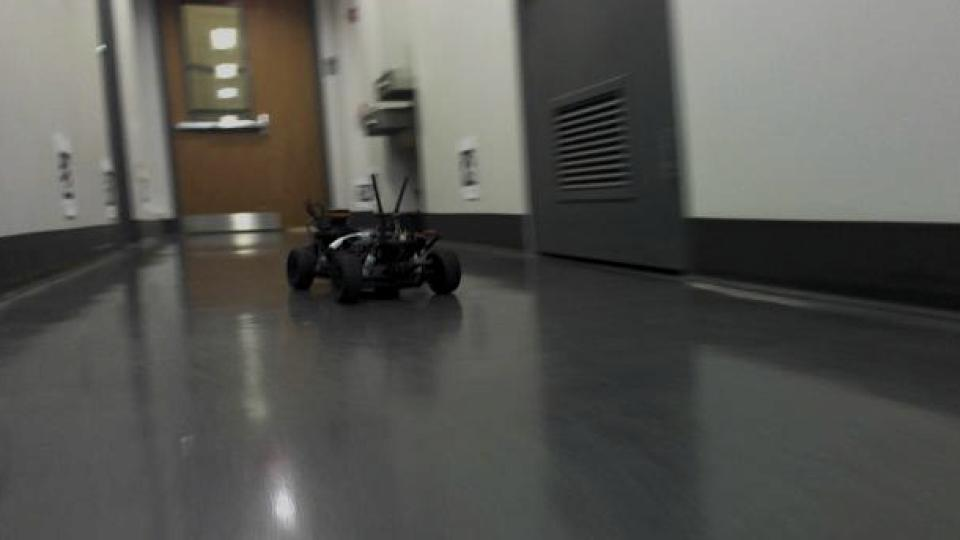car: (282, 170, 464, 306)
